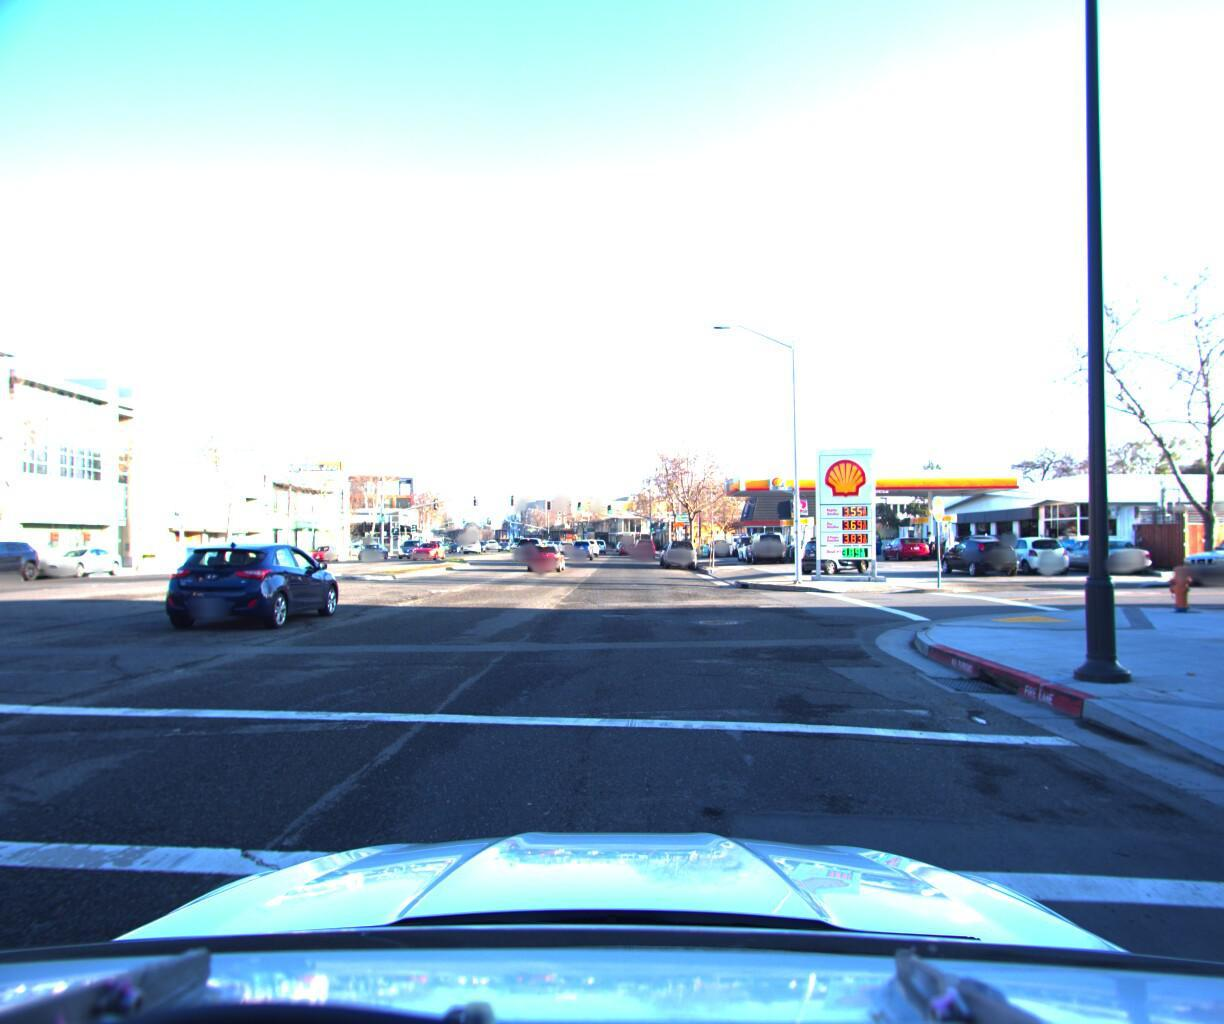car: (156, 533, 348, 639), (1037, 530, 1154, 569), (29, 541, 130, 580), (930, 530, 1022, 571), (983, 528, 1070, 569), (1162, 525, 1224, 580), (793, 529, 871, 568), (0, 535, 53, 587), (943, 525, 1008, 551), (739, 524, 786, 558), (524, 536, 567, 571), (875, 530, 933, 555), (658, 531, 698, 564), (970, 509, 1035, 528), (510, 530, 547, 558), (732, 532, 773, 555), (411, 534, 449, 554), (306, 537, 340, 558), (700, 530, 729, 549), (569, 532, 593, 553), (630, 533, 655, 551), (617, 532, 637, 550)
